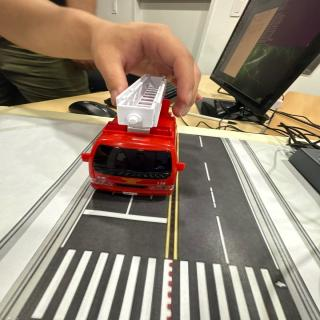Fire_truck: (82, 74, 184, 197)
